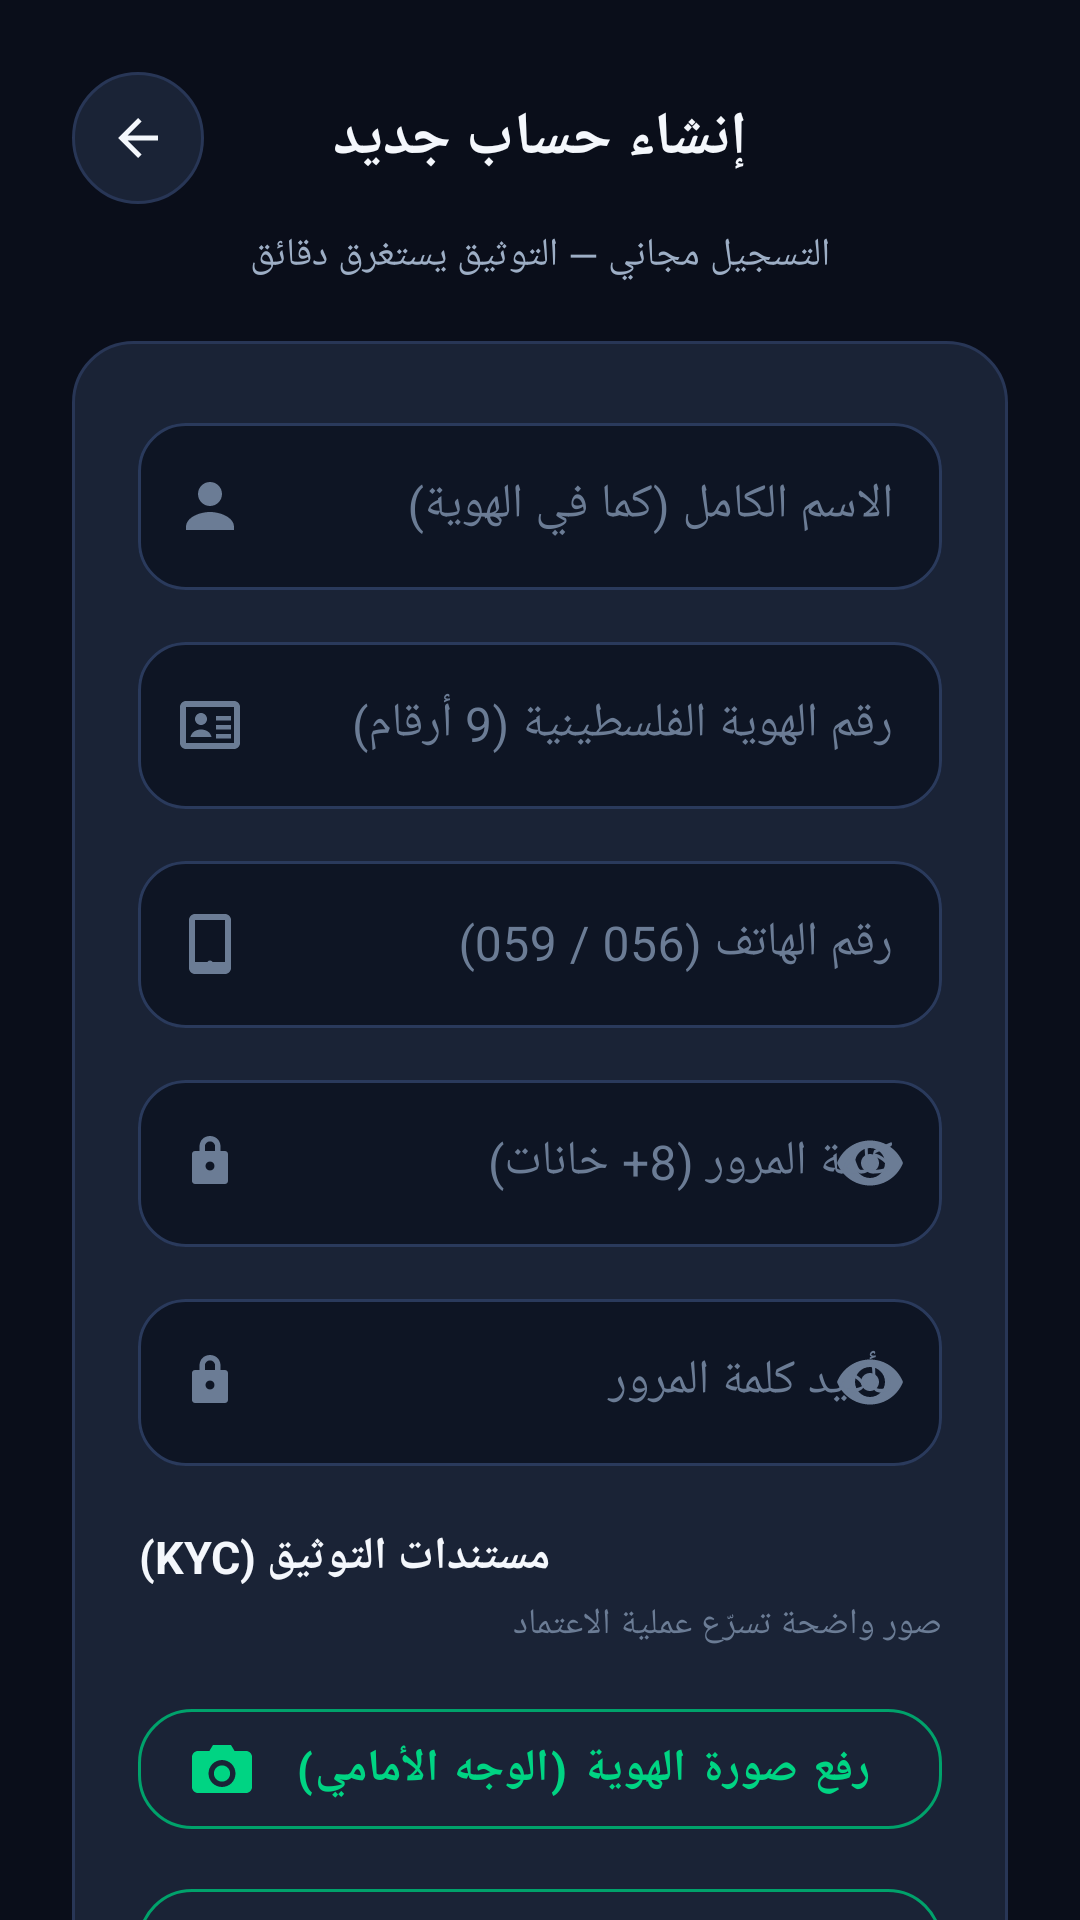

Screen size 1080×1920. Icon name, then its center in pixels as [x,y]:
رجوع: [138,138]
